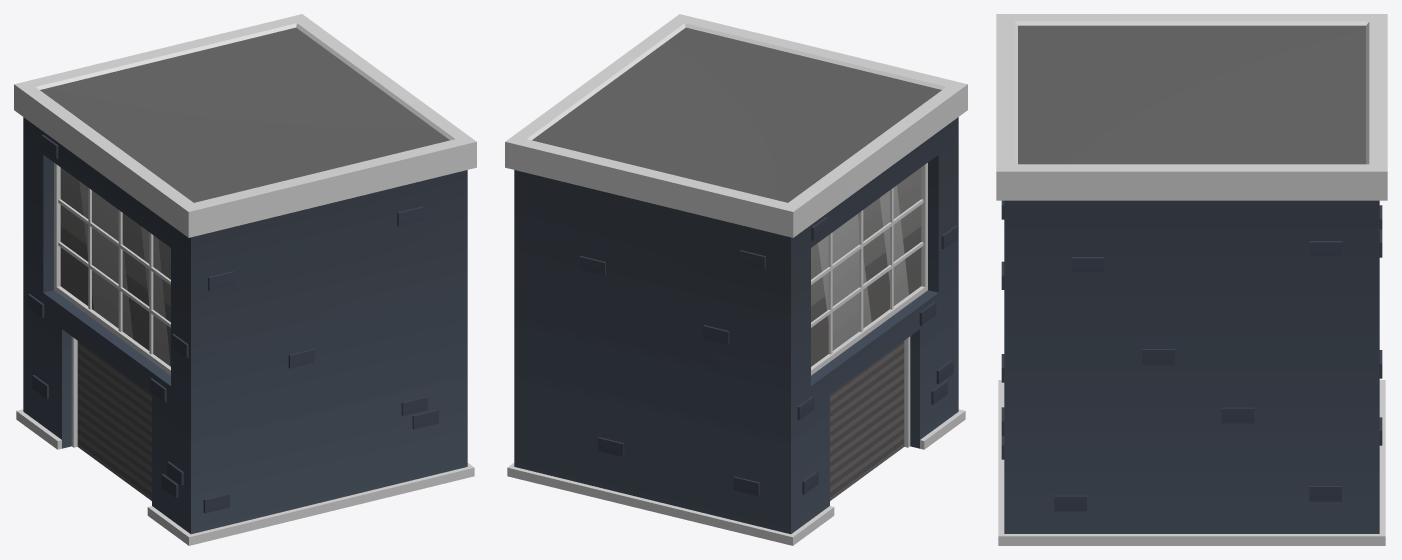
Rendered from Building_10_N.fbx.
The picture shows the model from 3 angles, left to right: view 1: azimuth 30°, elevation 25°; view 2: azimuth 150°, elevation 25°; view 3: azimuth 270°, elevation 25°; orthographic projection. The views are drawn at different scales.
Visible parts, largest first — view 1: Building_10_N; view 2: Building_10_N; view 3: Building_10_N.
Boxes of the visible parts, bbox=[...] form: Building_10_N: bbox=[14, 14, 476, 545]; Building_10_N: bbox=[505, 14, 967, 545]; Building_10_N: bbox=[996, 14, 1387, 545].
Bounding box in the file's own units: 526 × 584 × 552.
